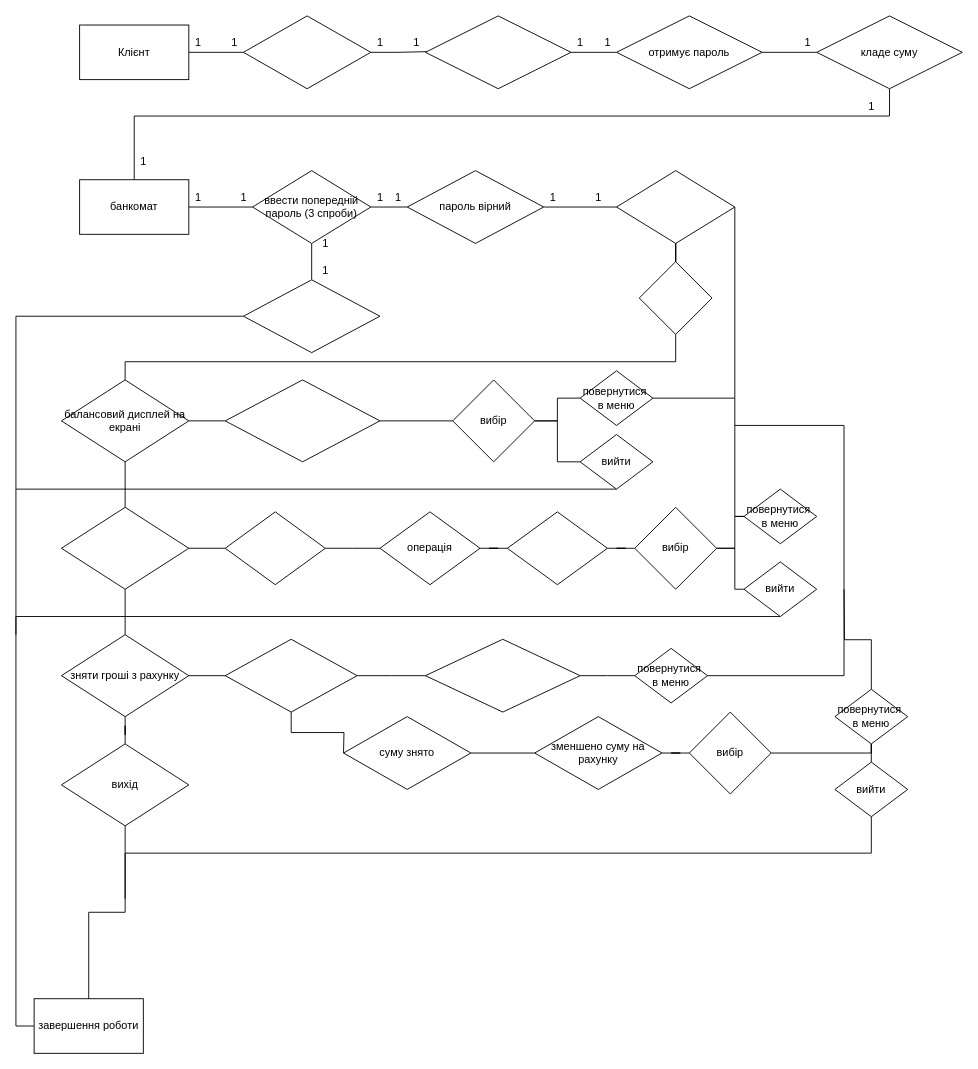
Some shapes in this 978 by 1069 pixel diagram are drawn without their labels. The shapes that lost their labels are listed below. From the top down, each one's centre as x and y in pixels, then its label:
the point at 307,52: відкриває рахунок
the point at 498,52: отримує номер рахунку
the point at 675,206: перехід у меню
the point at 311,316: пароль не вірний
the point at 675,297: вибір клієнта
the point at 302,420: статус облікового запису
the point at 125,547: поповнення рахунку
the point at 274,548: сума поповнення
the point at 556,548: коментар
the point at 290,675: сума зняття
the point at 502,675: суму перевищено
